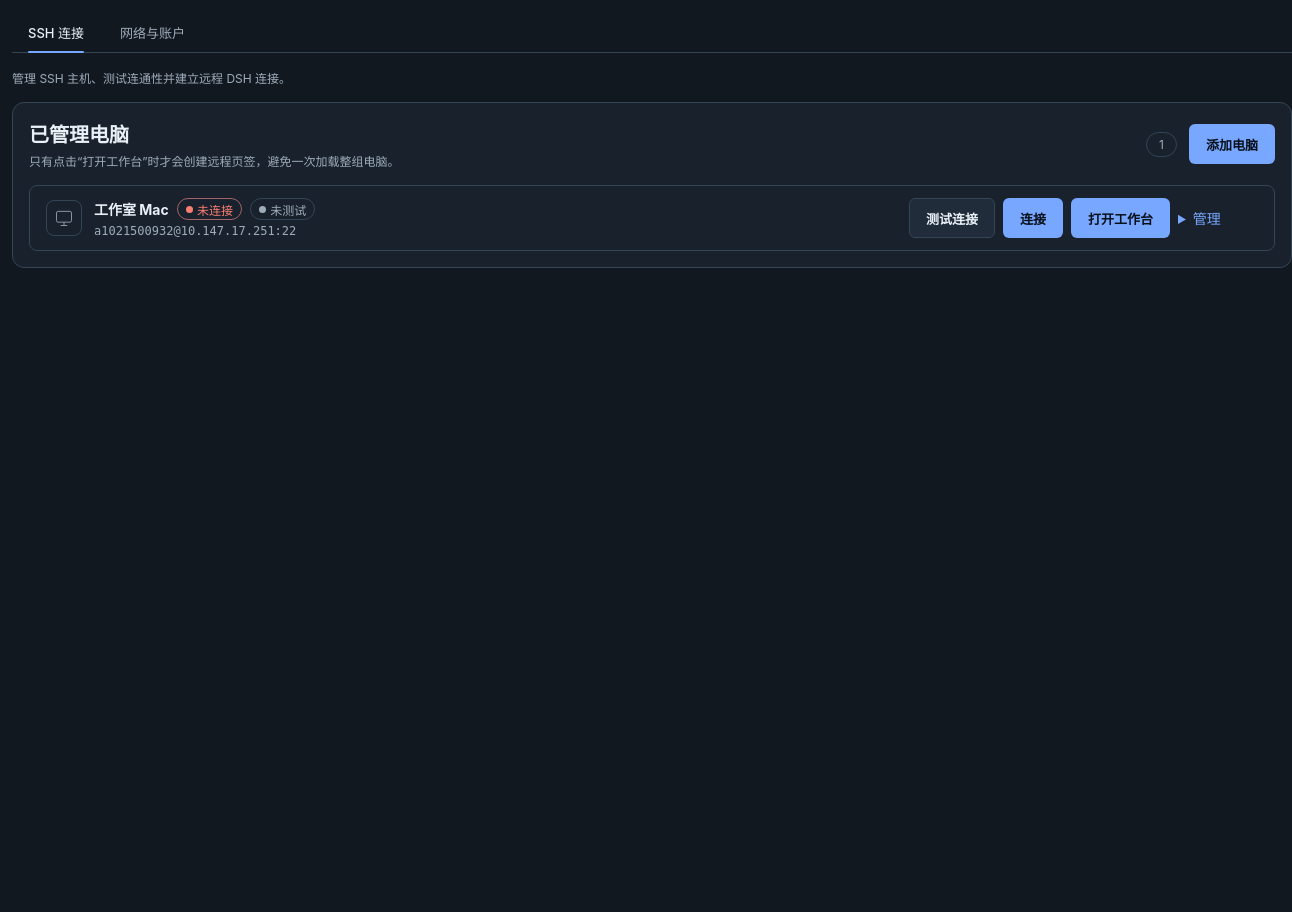
Test: RemoteConnectionsPanel › prefills and submits an explicit edit with the persisted revision, keeping the same row
Click the heading "管理" at [1207, 219], box [1193,210,1221,227]
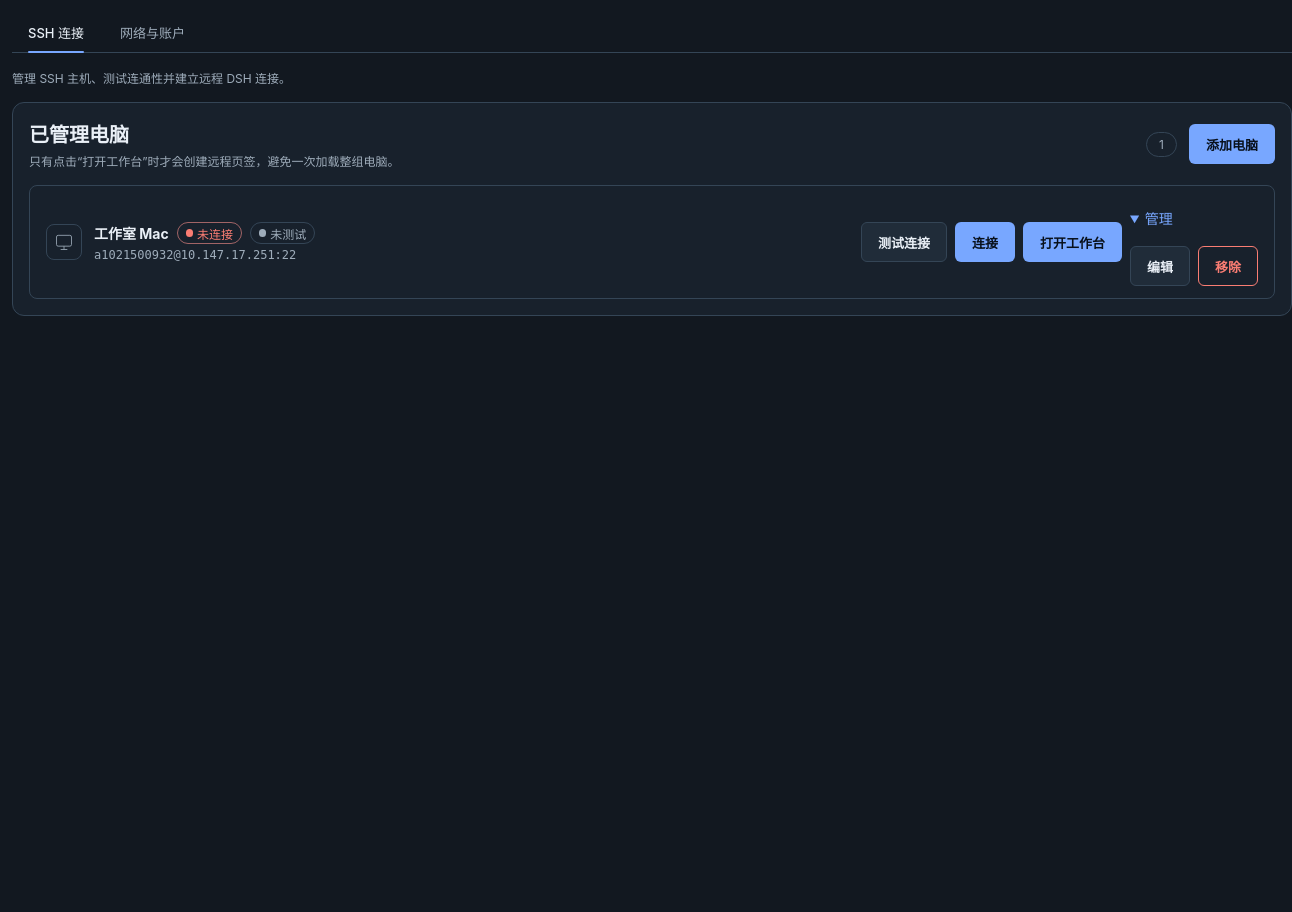
Click the button "编辑" at [1160, 266], box [1130,246,1190,286]
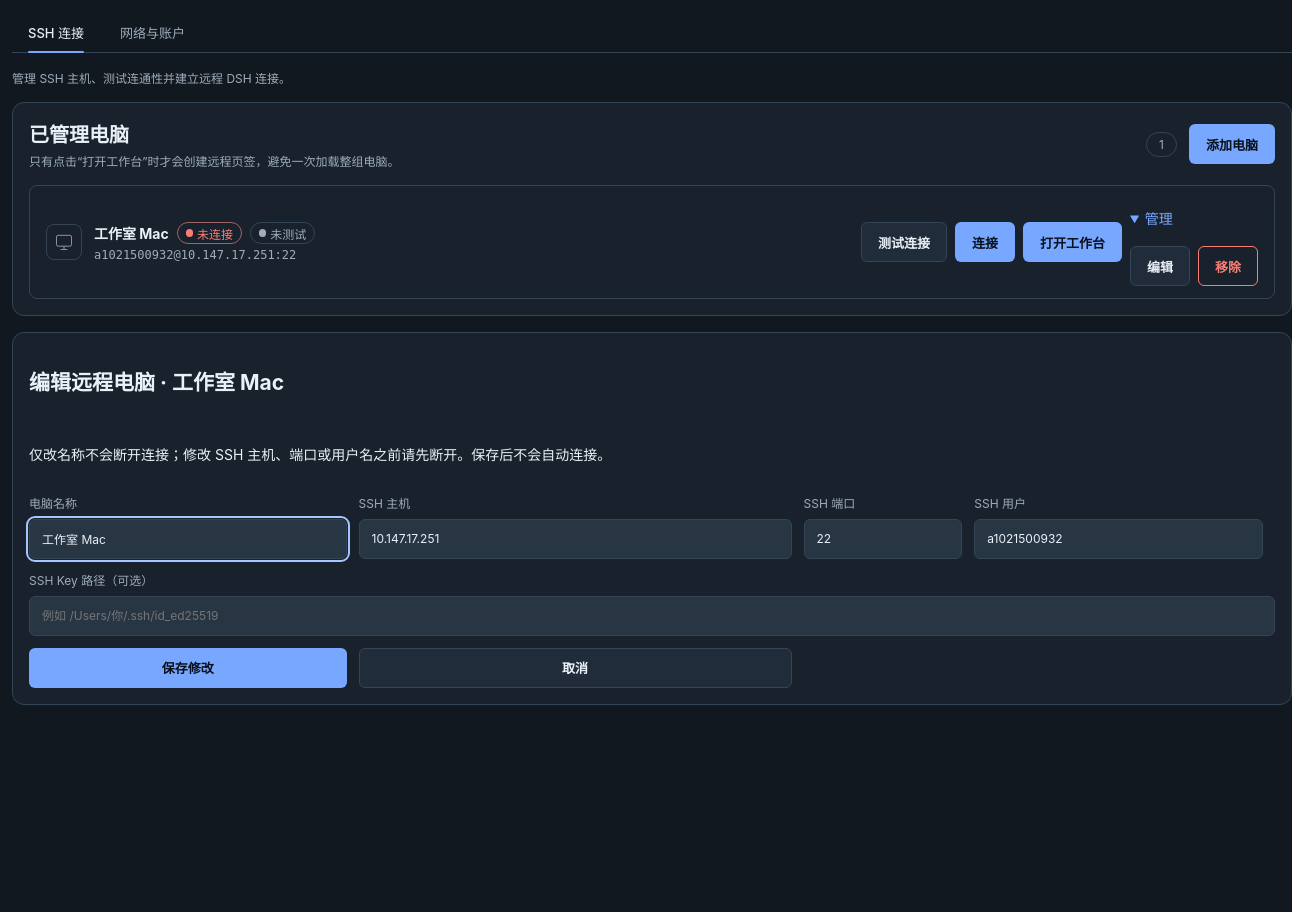
Check: the field labelled "电脑名称" holds "工作室 Mac", box [29,519,346,559]
Check: the field labelled "SSH 主机" holds "10.147.17.251", box [358,519,792,559]
Check: the field labelled "SSH Key 路径（可选）" is empty
Type "/example/.ssh/id_ed25519" into the field labelled "SSH Key 路径（可选）" at [652, 616], box [29,596,1275,636]
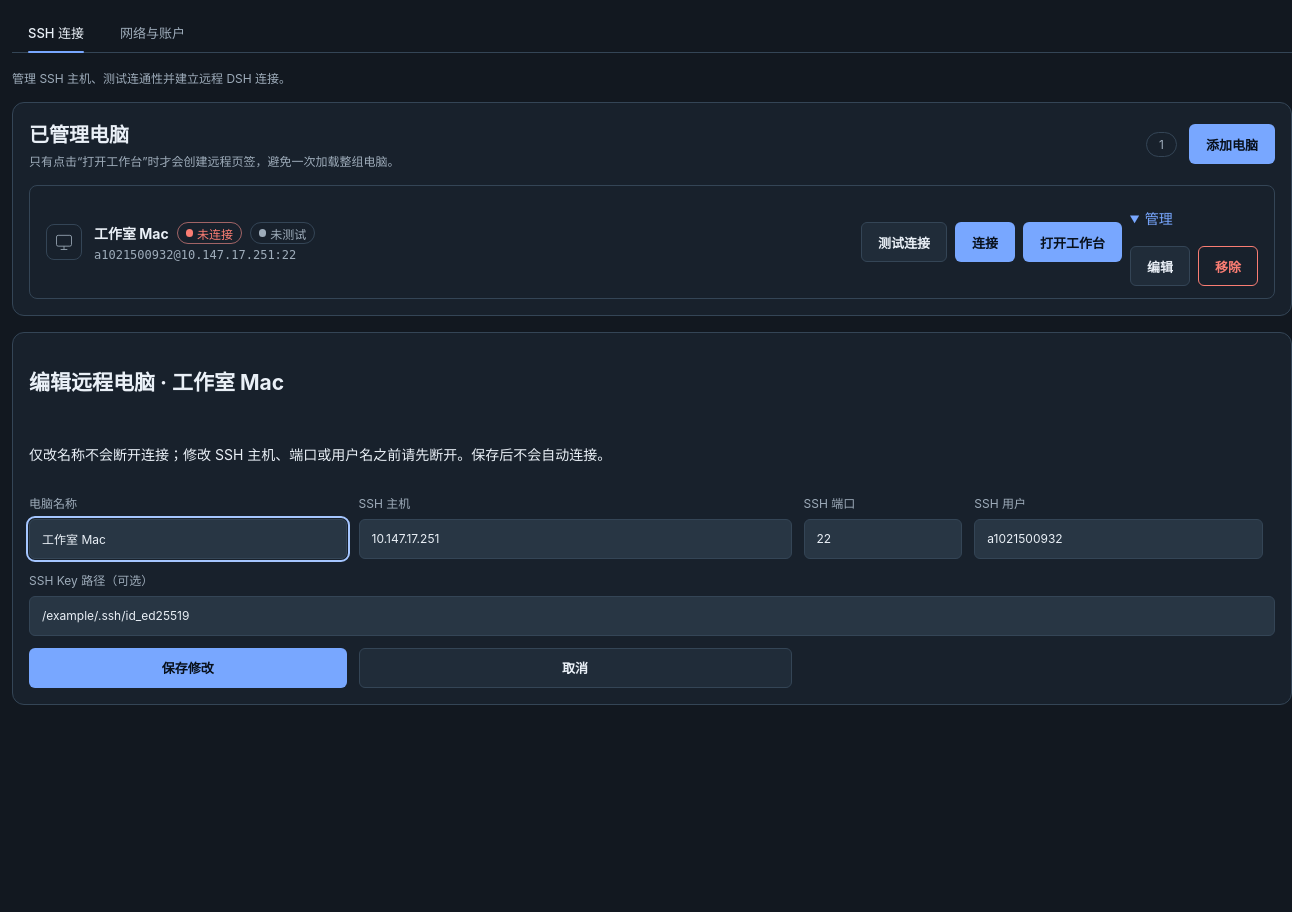
Replace the text in the field labelled "电脑名称" with "新版工作室" at [188, 539], box [29,519,346,559]
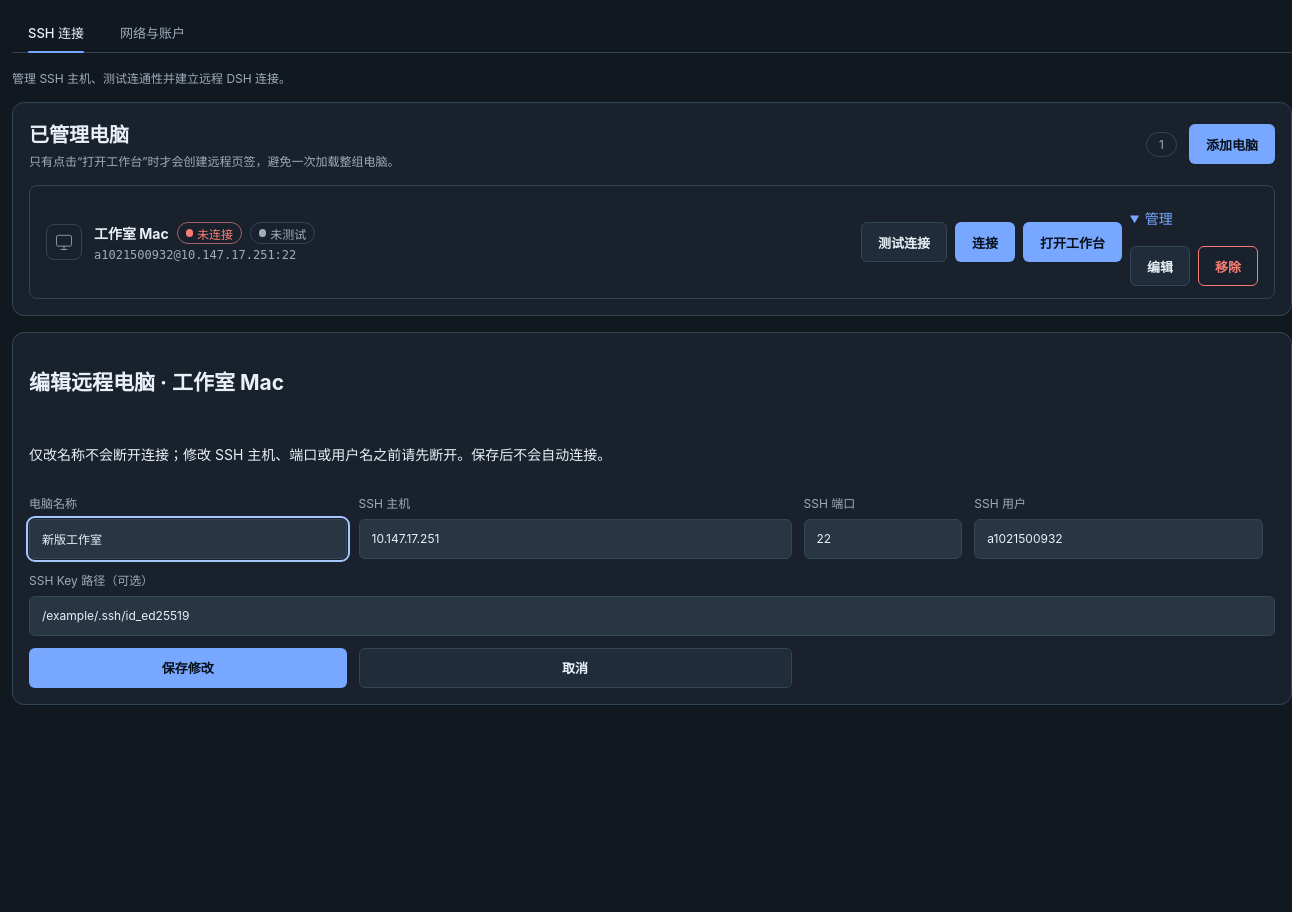
Submit the form with test id "remote-edit-form", box [29,494,1275,688]
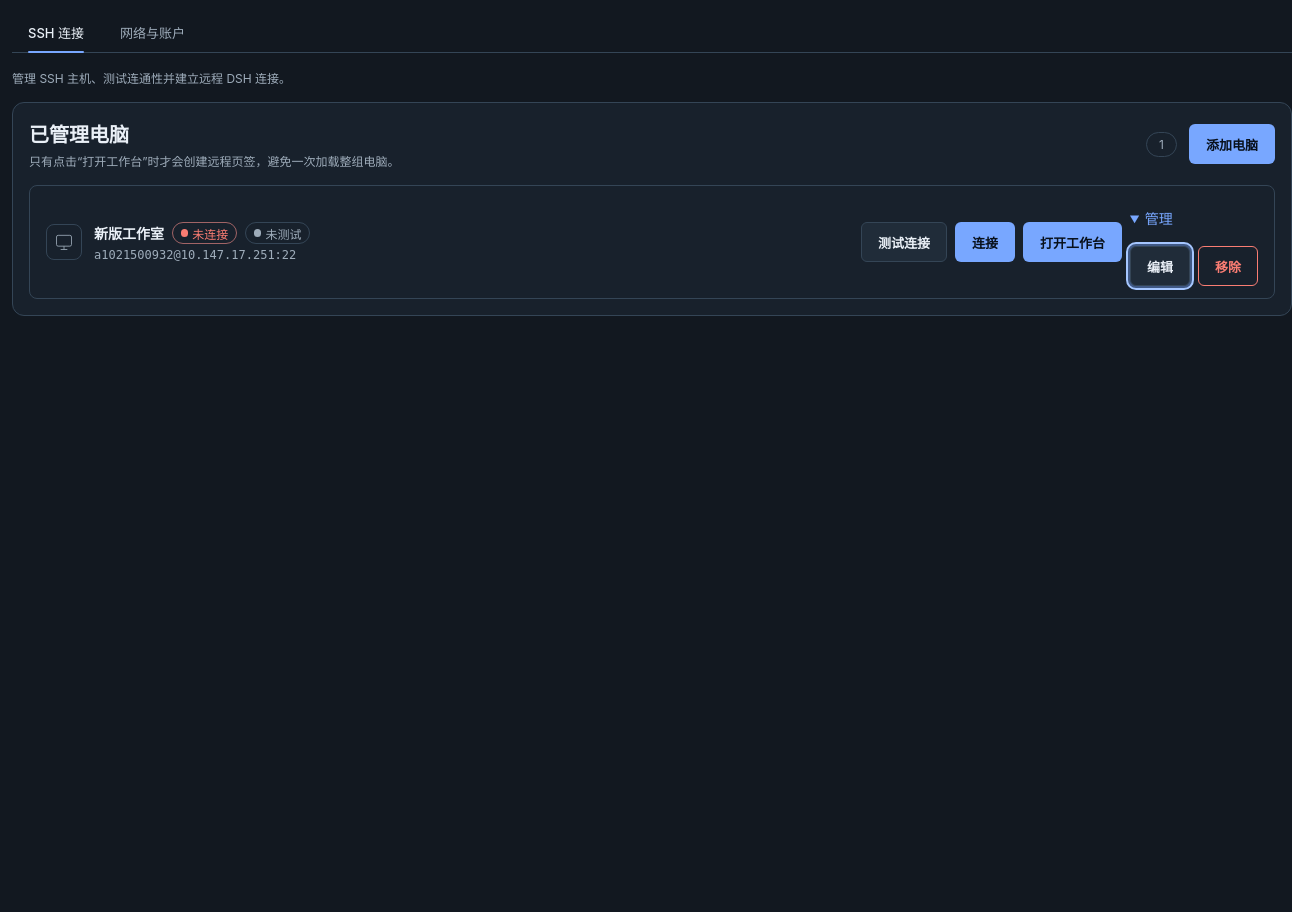
Check: the element with class "remote-computer-title" shows "新版工作室", box [94,225,164,242]
